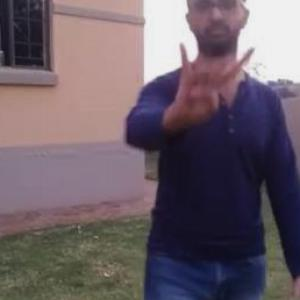takeoff-hand: (171, 32, 256, 132)
